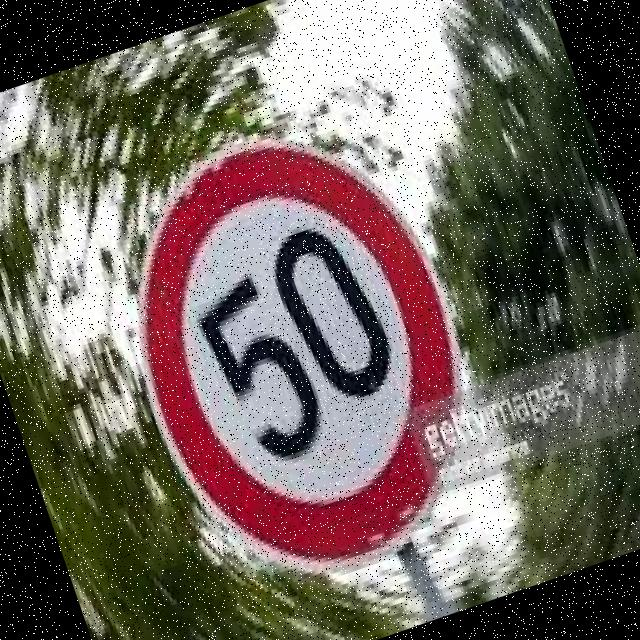speed_limit_50: (64, 86, 519, 622)
